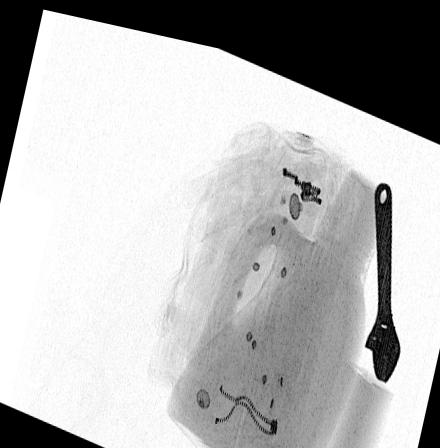Wrench: (361, 161, 402, 366)
